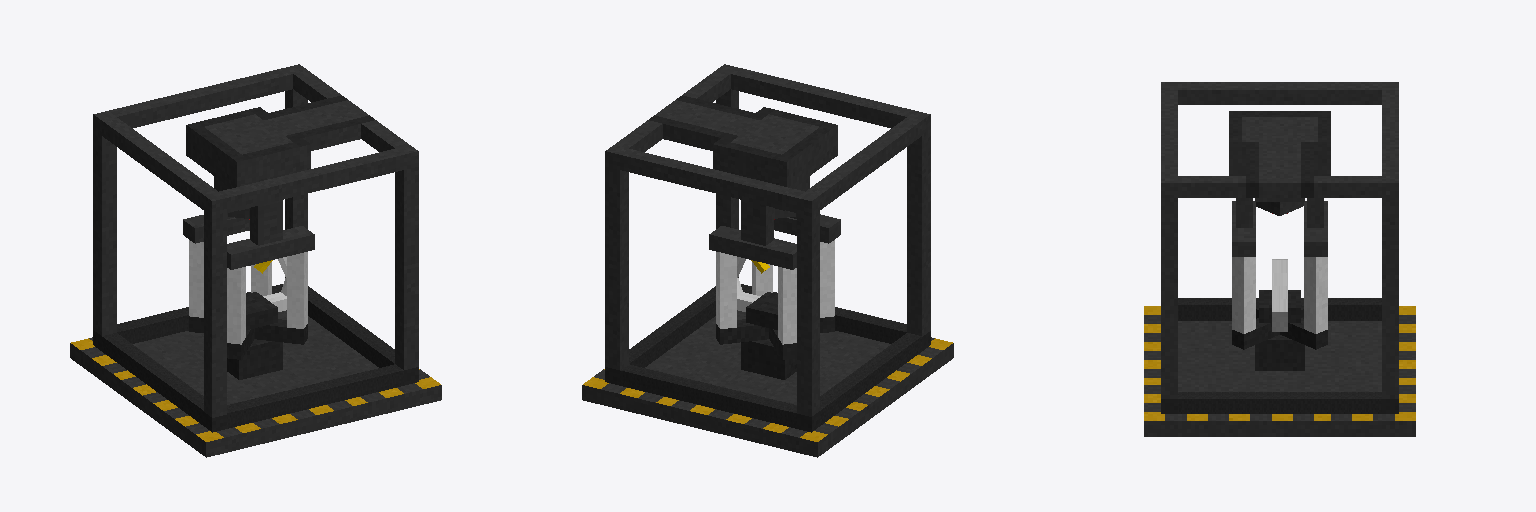
3 views of the same model, side by side, from view 1: azimuth 30°, elevation 25°; view 2: azimuth 150°, elevation 25°; view 3: azimuth 270°, elevation 25° (orthographic).
Parts seen in each view (by area): view 1: cube; view 2: cube; view 3: cube.
Boxes of the visible parts, x1,y1,x2,y2 form: cube: [70, 64, 441, 457]; cube: [582, 64, 953, 457]; cube: [1144, 82, 1415, 436].
Size of the model in its own units: 16 by 16 by 16.
1 materials, 1 textured.